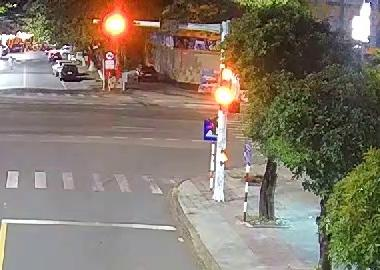stop_line: (2, 215, 189, 233)
yellow_light: (214, 58, 241, 113), (102, 13, 127, 36)
